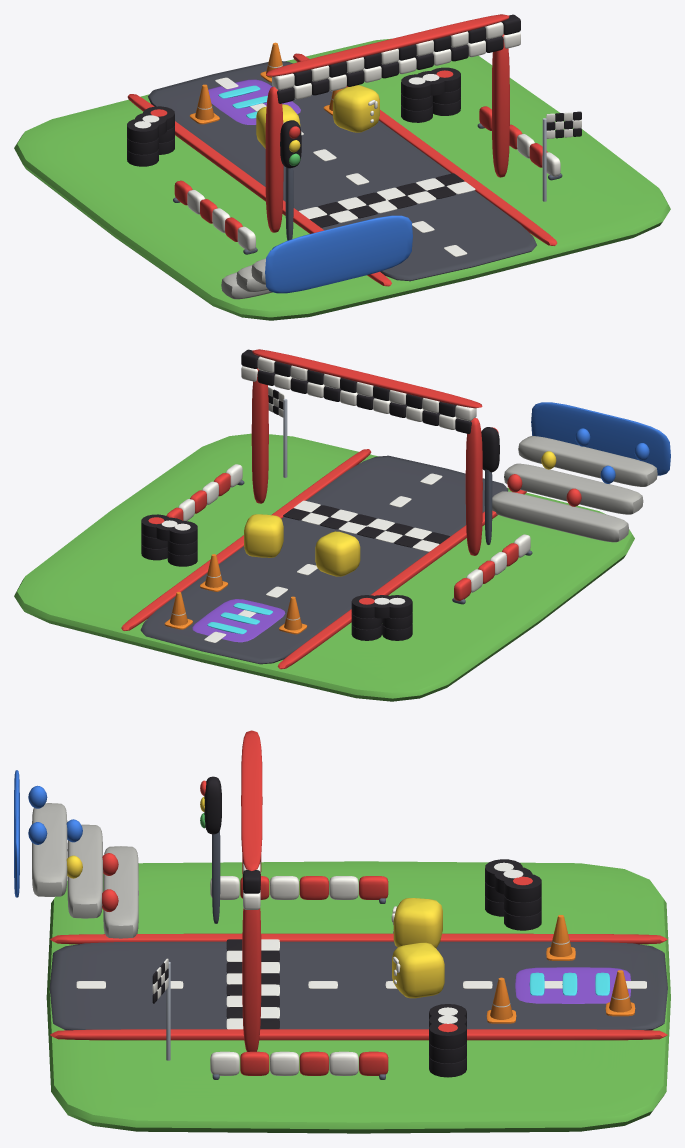
The model's file is Diorama_Carreras.fbx.
The picture shows the model from 3 angles, top to bottom: view 1: azimuth 30°, elevation 25°; view 2: azimuth 150°, elevation 25°; view 3: azimuth 270°, elevation 25°; orthographic projection. The views are drawn at different scales.
Visible parts, largest first — view 1: Suelo_Carreras, Meta.001, Tribuna.001, Neumaticos.001, Neumaticos.002, Valla.002, CajaSorpresa.001, Turbo.001, Valla.001, BanderaCuadros.001, Semaforo.001, Cono.002 (+2 smaller); view 2: Suelo_Carreras, Tribuna.001, Meta.001, Neumaticos.002, Neumaticos.001, Turbo.001, CajaSorpresa.002, Valla.002, CajaSorpresa.001, Valla.001, Semaforo.001, BanderaCuadros.001 (+4 smaller); view 3: Suelo_Carreras, Tribuna.001, Meta.001, Valla.001, Valla.002, Neumaticos.002, Neumaticos.001, Turbo.001, CajaSorpresa.001, CajaSorpresa.002, Semaforo.001, Turbo_Brillo.001 (+4 smaller).
Boxes of the visible parts, x1=… form: Suelo_Carreras: x1=14, y1=38, x2=670, y2=320; Meta.001: x1=265, y1=14, x2=520, y2=232; Tribuna.001: x1=221, y1=215, x2=412, y2=299; Neumaticos.001: x1=401, y1=67, x2=460, y2=122; Neumaticos.002: x1=127, y1=106, x2=174, y2=166; Valla.002: x1=173, y1=180, x2=257, y2=254; CajaSorpresa.001: x1=333, y1=85, x2=379, y2=132; Turbo.001: x1=208, y1=79, x2=300, y2=124; Valla.001: x1=477, y1=106, x2=562, y2=180; BanderaCuadros.001: x1=542, y1=111, x2=581, y2=201; Semaforo.001: x1=280, y1=120, x2=301, y2=240; Cono.002: x1=189, y1=84, x2=219, y2=124; Suelo_Carreras: x1=14, y1=433, x2=634, y2=701; Tribuna.001: x1=492, y1=402, x2=670, y2=542; Meta.001: x1=241, y1=349, x2=482, y2=555; Neumaticos.002: x1=351, y1=595, x2=412, y2=640; Neumaticos.001: x1=141, y1=514, x2=197, y2=566; Turbo.001: x1=192, y1=599, x2=285, y2=642; CajaSorpresa.002: x1=315, y1=531, x2=360, y2=576; Valla.002: x1=452, y1=534, x2=532, y2=604; CajaSorpresa.001: x1=244, y1=514, x2=283, y2=557; Valla.001: x1=166, y1=464, x2=244, y2=520; Semaforo.001: x1=481, y1=427, x2=499, y2=544; BanderaCuadros.001: x1=268, y1=387, x2=287, y2=477; Suelo_Carreras: x1=46, y1=861, x2=670, y2=1133; Tribuna.001: x1=14, y1=770, x2=138, y2=938; Meta.001: x1=241, y1=730, x2=262, y2=1051; Valla.001: x1=210, y1=1051, x2=388, y2=1079; Valla.002: x1=210, y1=876, x2=388, y2=903; Neumaticos.002: x1=485, y1=859, x2=541, y2=930; Neumaticos.001: x1=429, y1=1004, x2=466, y2=1077; Turbo.001: x1=515, y1=967, x2=630, y2=1003; CajaSorpresa.001: x1=392, y1=942, x2=444, y2=998; CajaSorpresa.002: x1=393, y1=898, x2=442, y2=948; Semaforo.001: x1=204, y1=776, x2=221, y2=923; Turbo_Brillo.001: x1=529, y1=972, x2=609, y2=995.
Size of the model in its own units: 10.5 by 3.85 by 11.05.
Materials: 2 (2 with a texture image).
